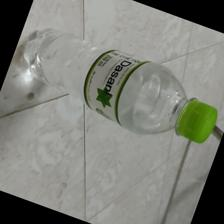Dasani: (19, 28, 219, 145)
